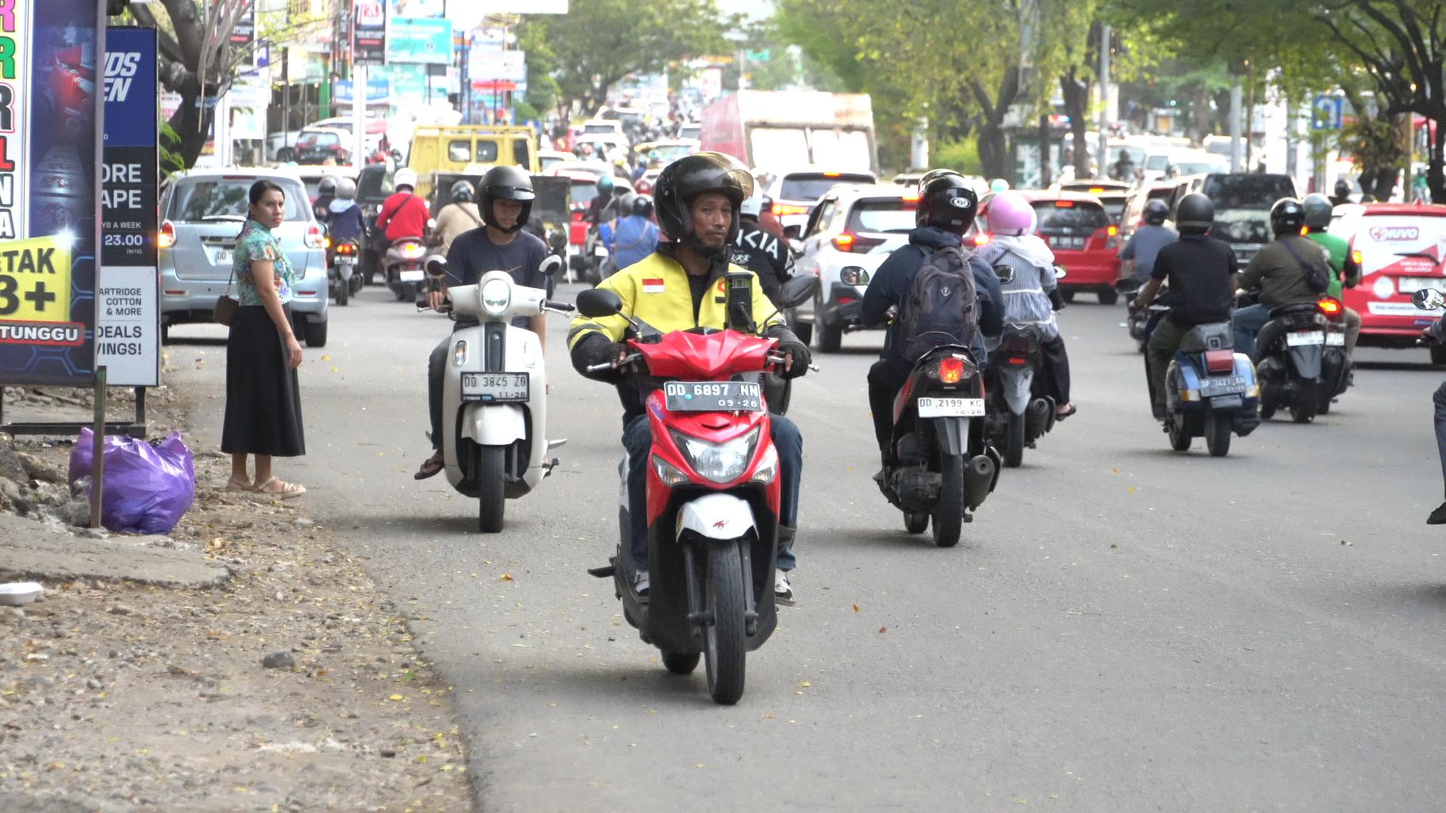number-plate: (664, 377, 763, 414), (458, 367, 531, 402)
